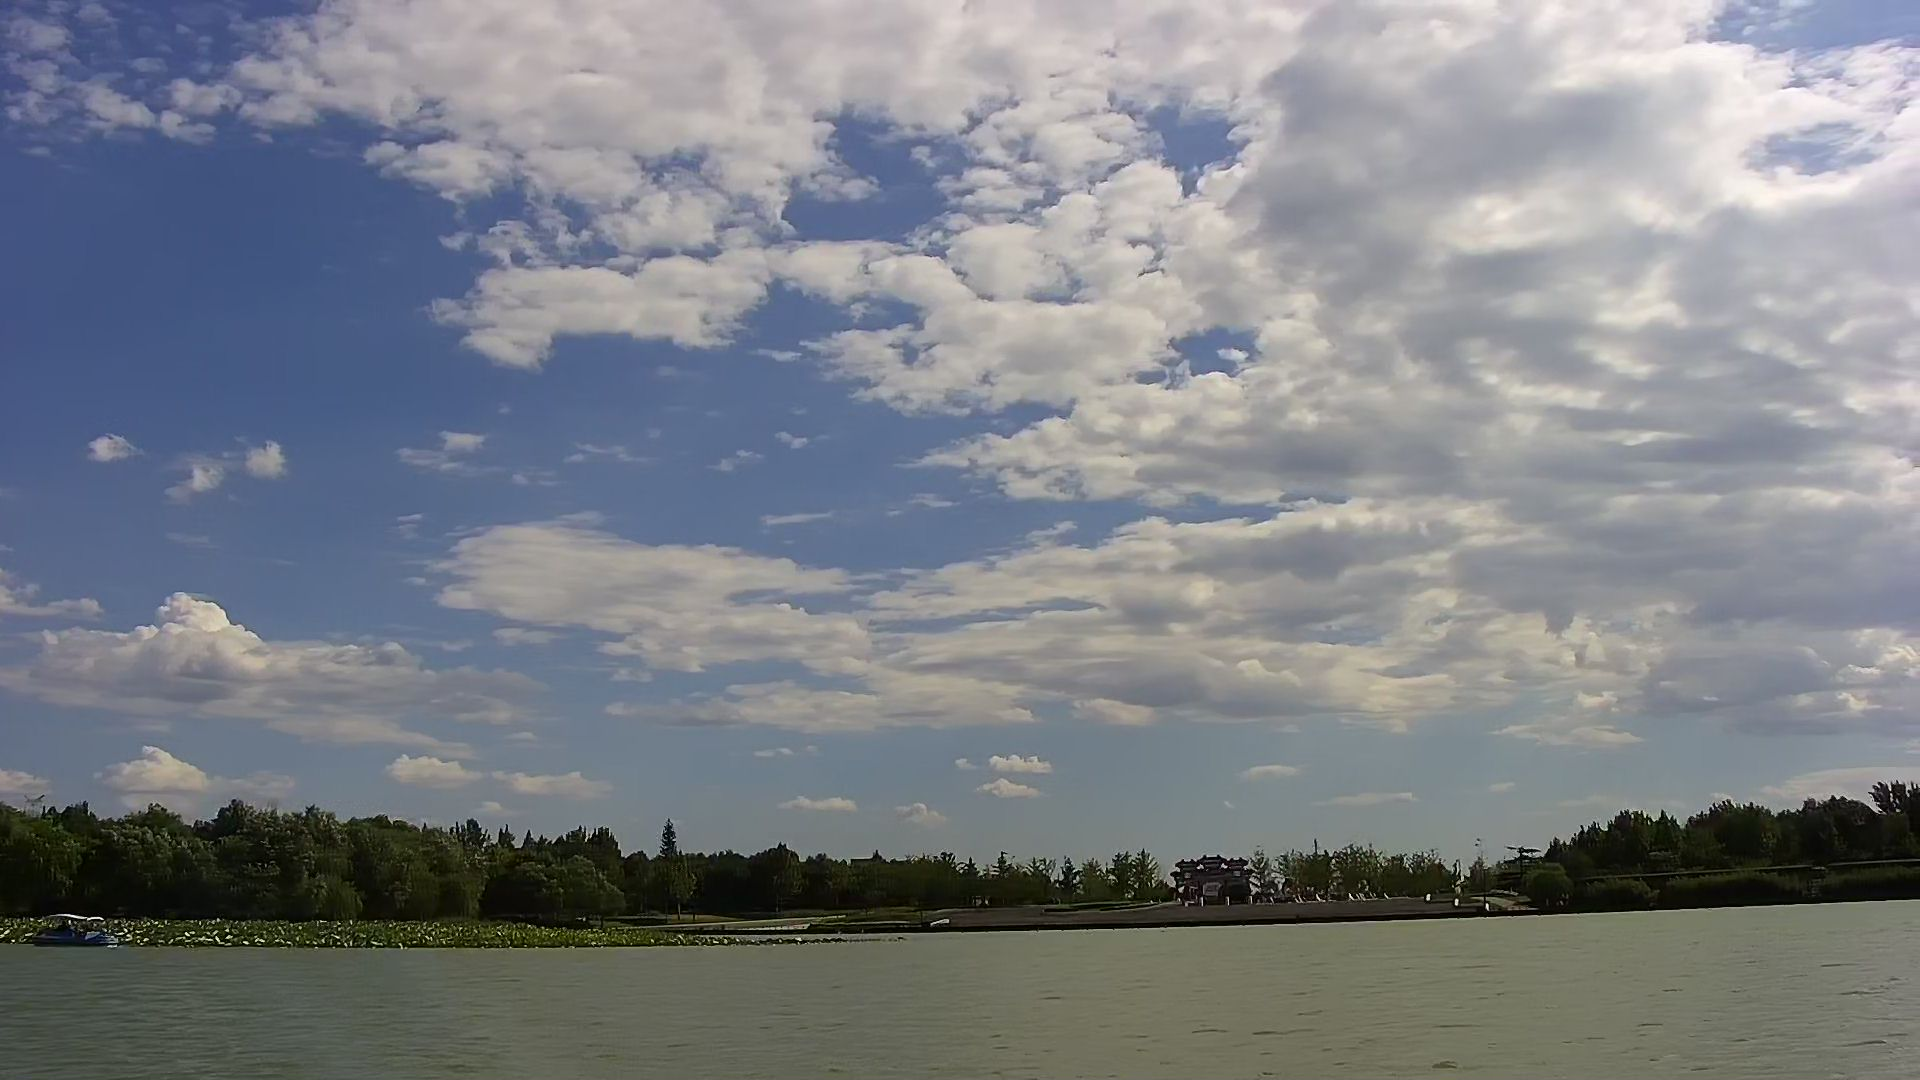boat: (33, 909, 117, 952)
harbor: (872, 886, 1538, 927)
